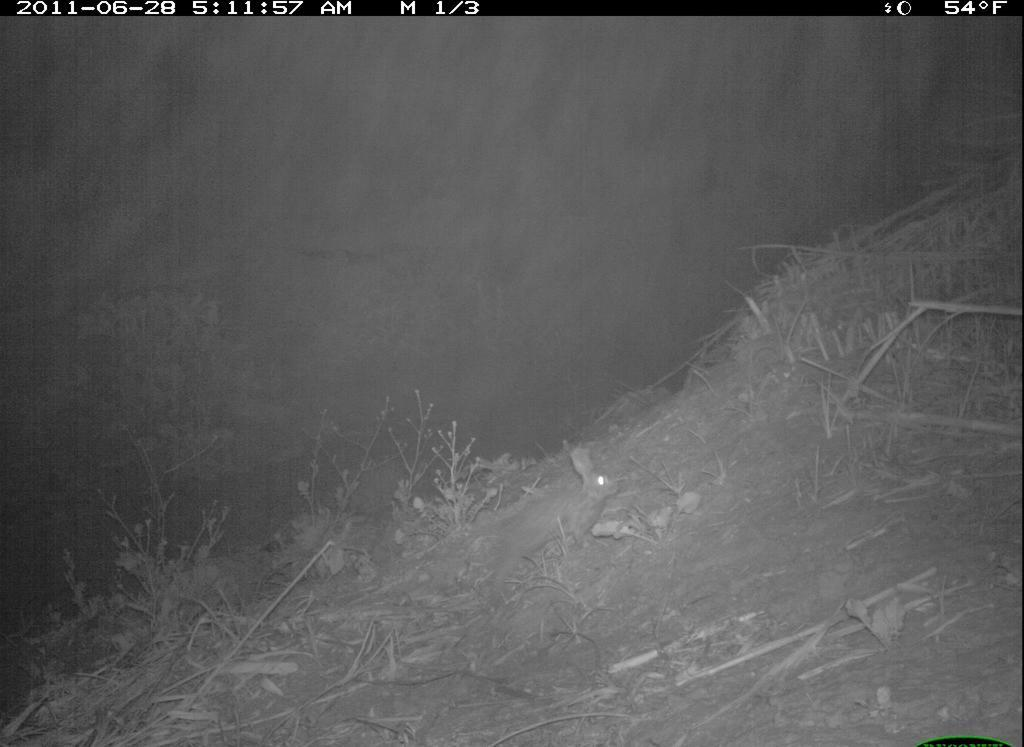rabbit: (470, 428, 629, 619)
